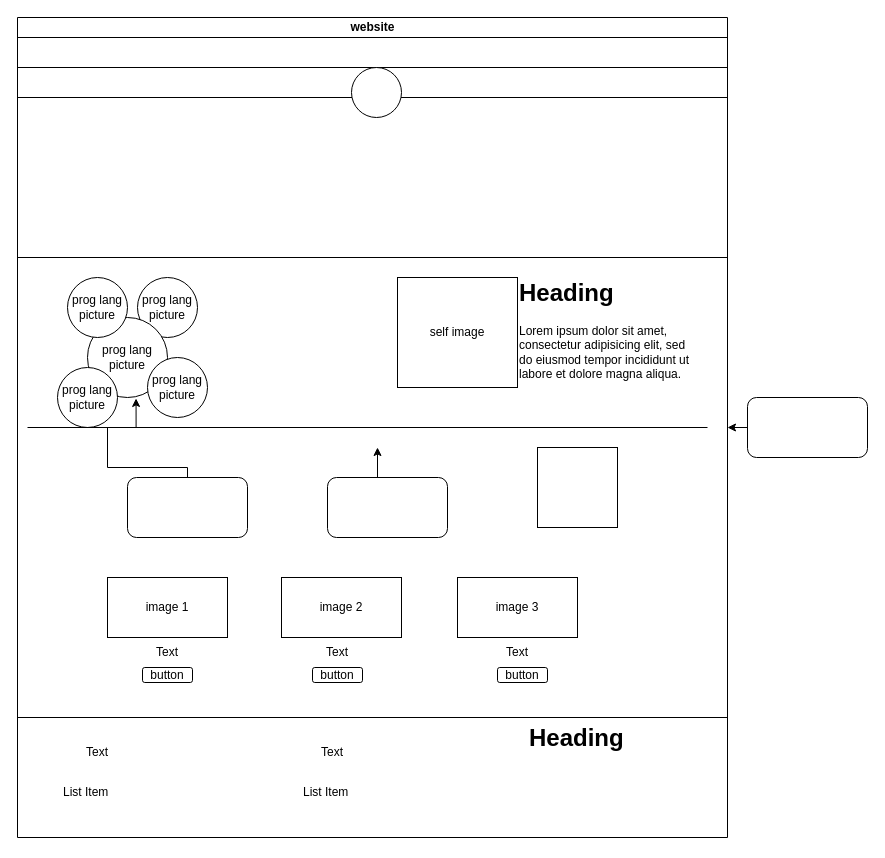
The diagram is 885 pixels wide and 858 high, and some of its shapes have lost their labels. Here are the shapes that lost their labels. From the top down, the centre of each, then its label:
point (372, 52): nav bar
point (376, 92): Logo
point (372, 177): image slide show
point (807, 427): end page here
point (187, 507): make icons move/popup when cursor hovers over
point (387, 507): add seamless scrolling feature
point (577, 487): quotes
